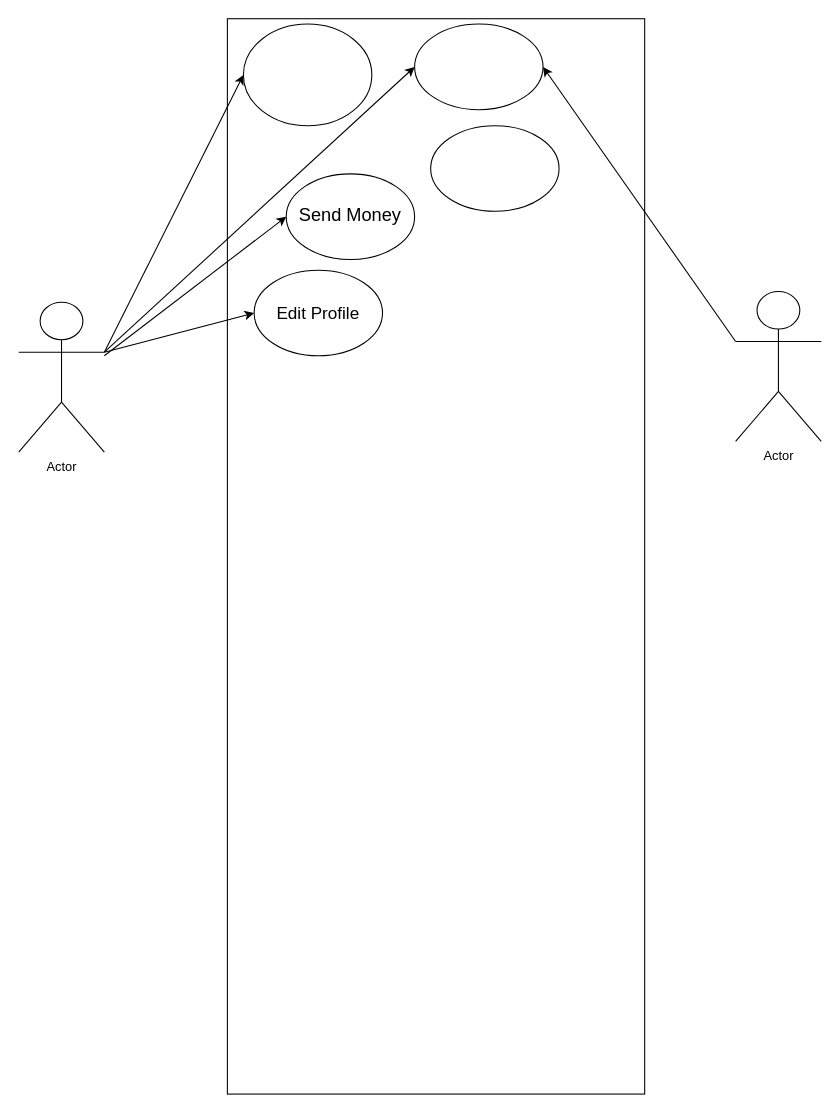
Image size: 840x1113. Some labels were removed from this diagram. The shapes that lost their labels are listed below. From the top down, each one's centre as x and y in pixels, then its label:
the point at 307,74: Create Account
the point at 478,66: Login
